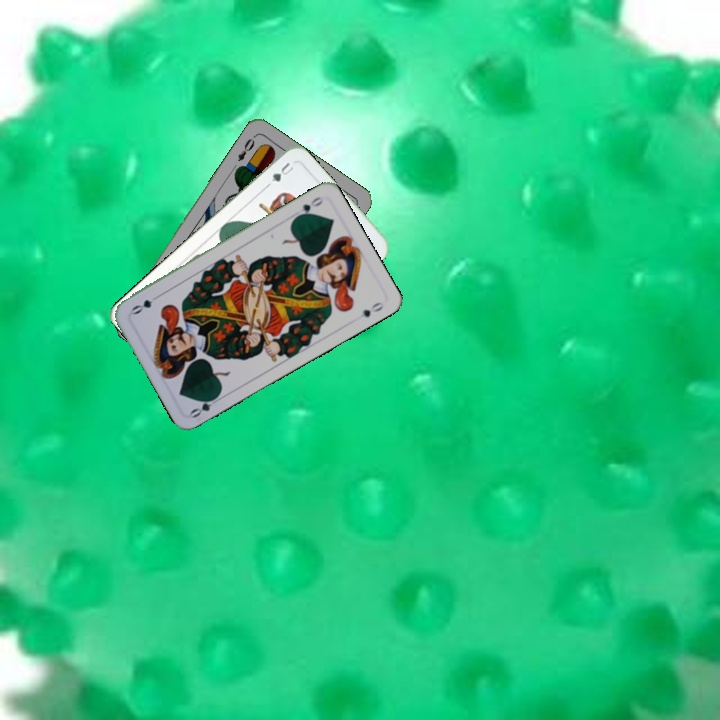EO: (233, 134, 257, 164)
GO: (186, 390, 224, 421), (291, 192, 326, 221)
GU: (263, 158, 296, 189)
